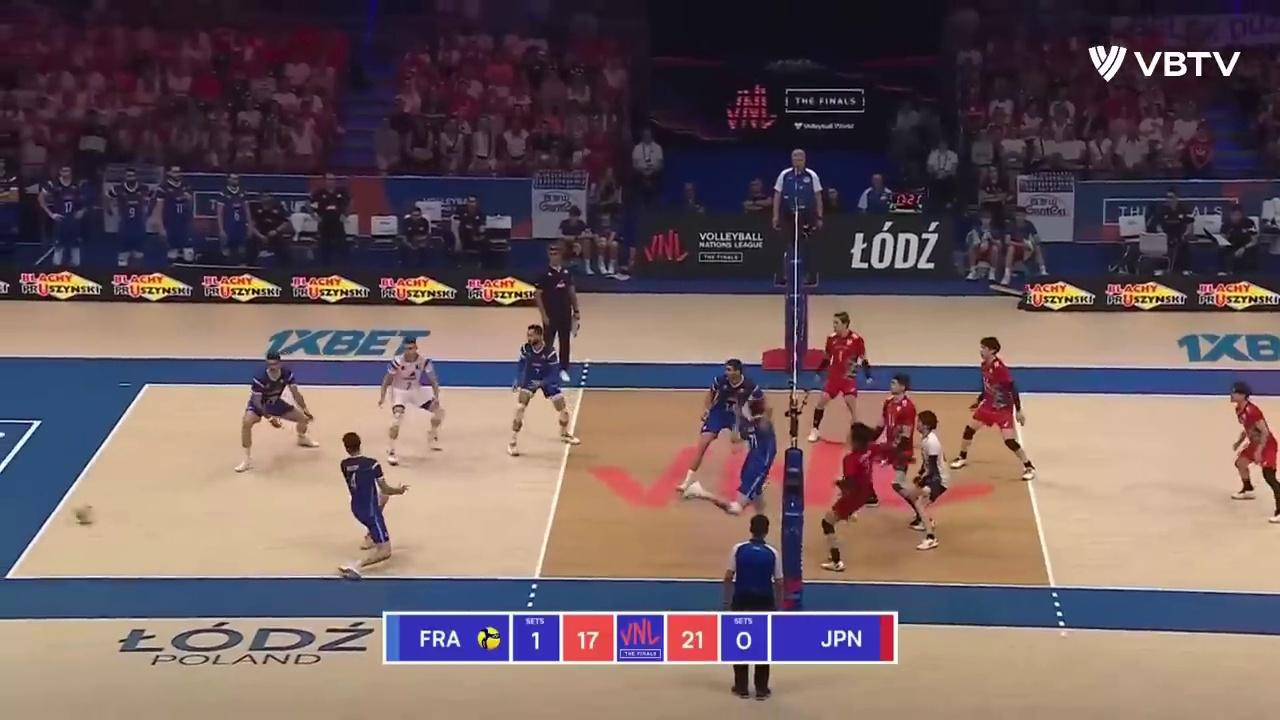ball: (75, 506, 94, 526)
